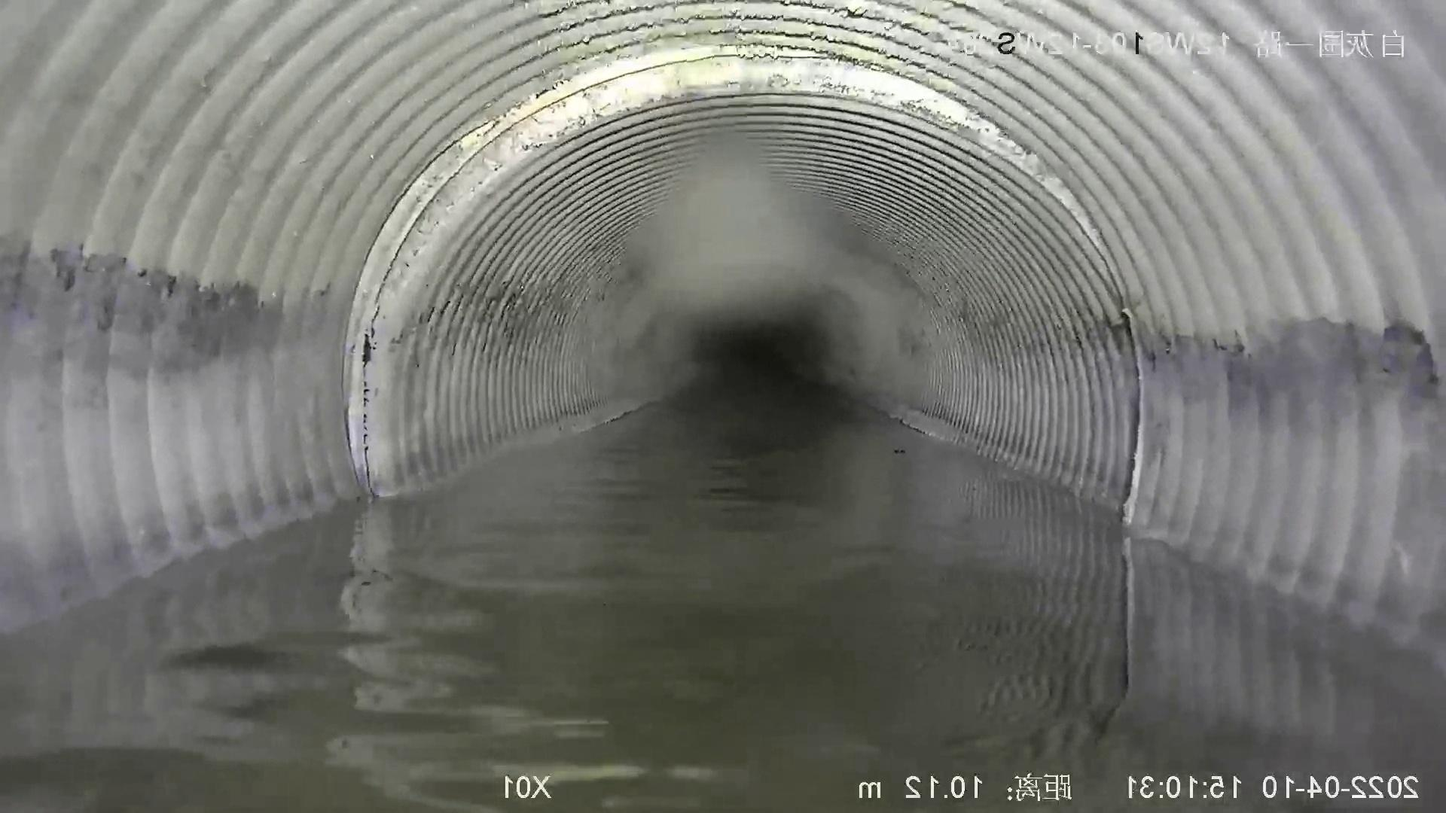CKTJ: (346, 46, 1105, 481)
